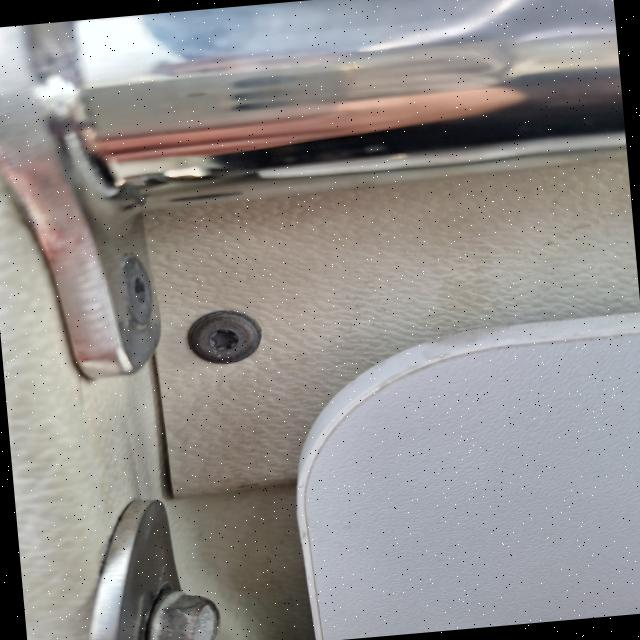Torx: (200, 326, 244, 356)
